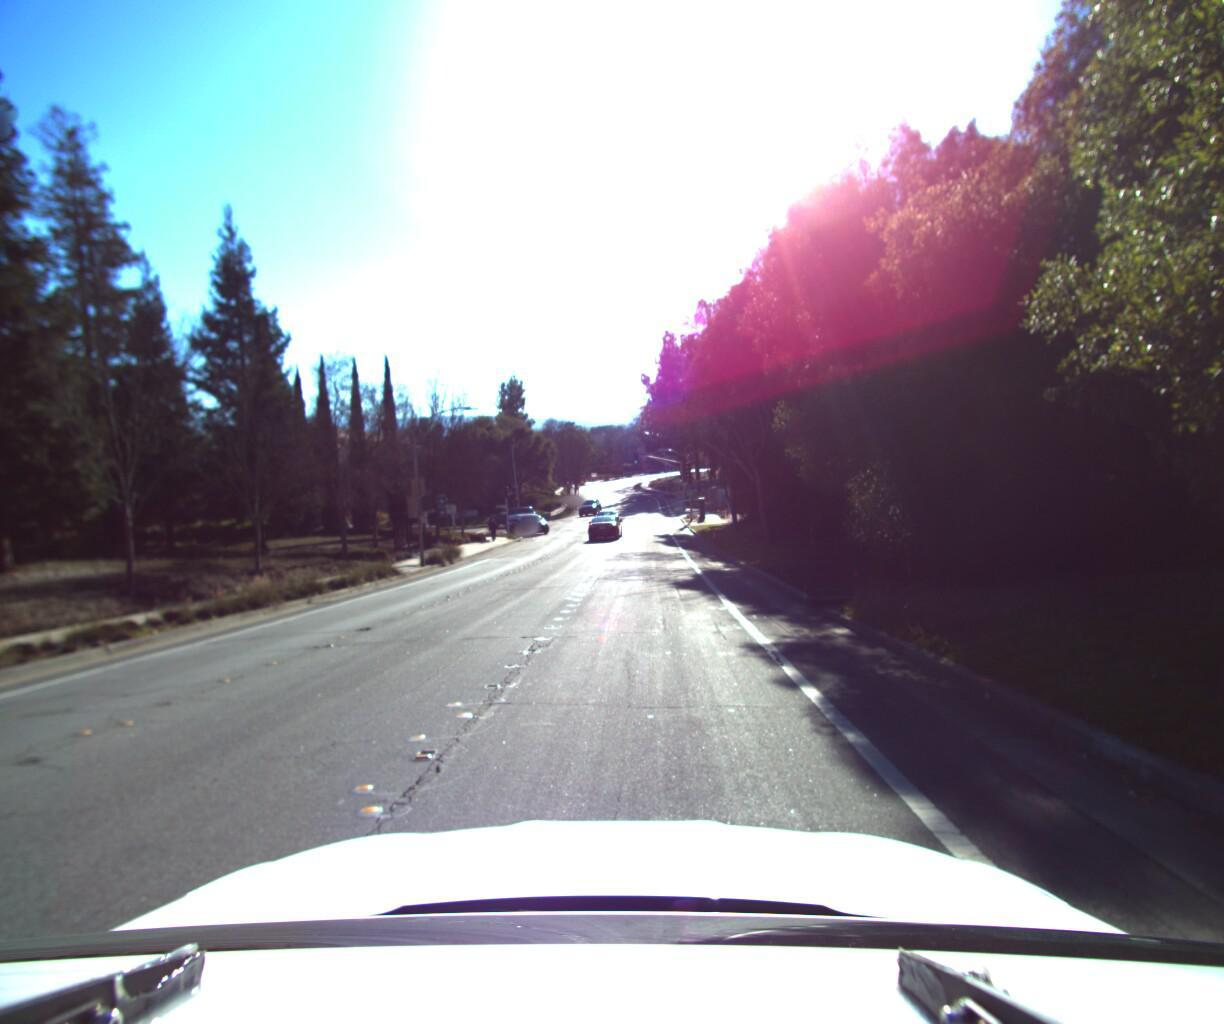car: (584, 505, 626, 541)
